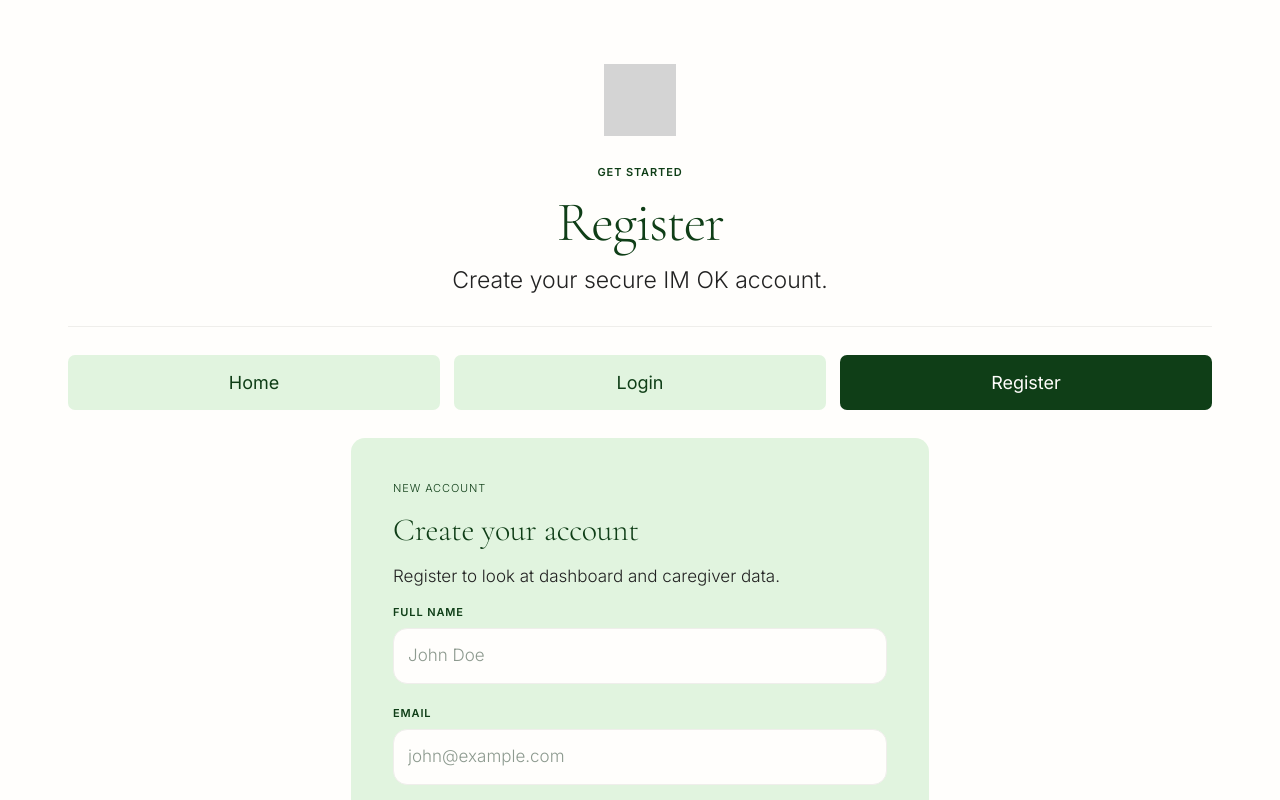
Test: Authentication flows › registers successfully and navigates to dashboard
Type "Jane Senior" into the field labelled "Full name".
click(640, 656); type("Jane Senior")  # box [393,628,887,684]
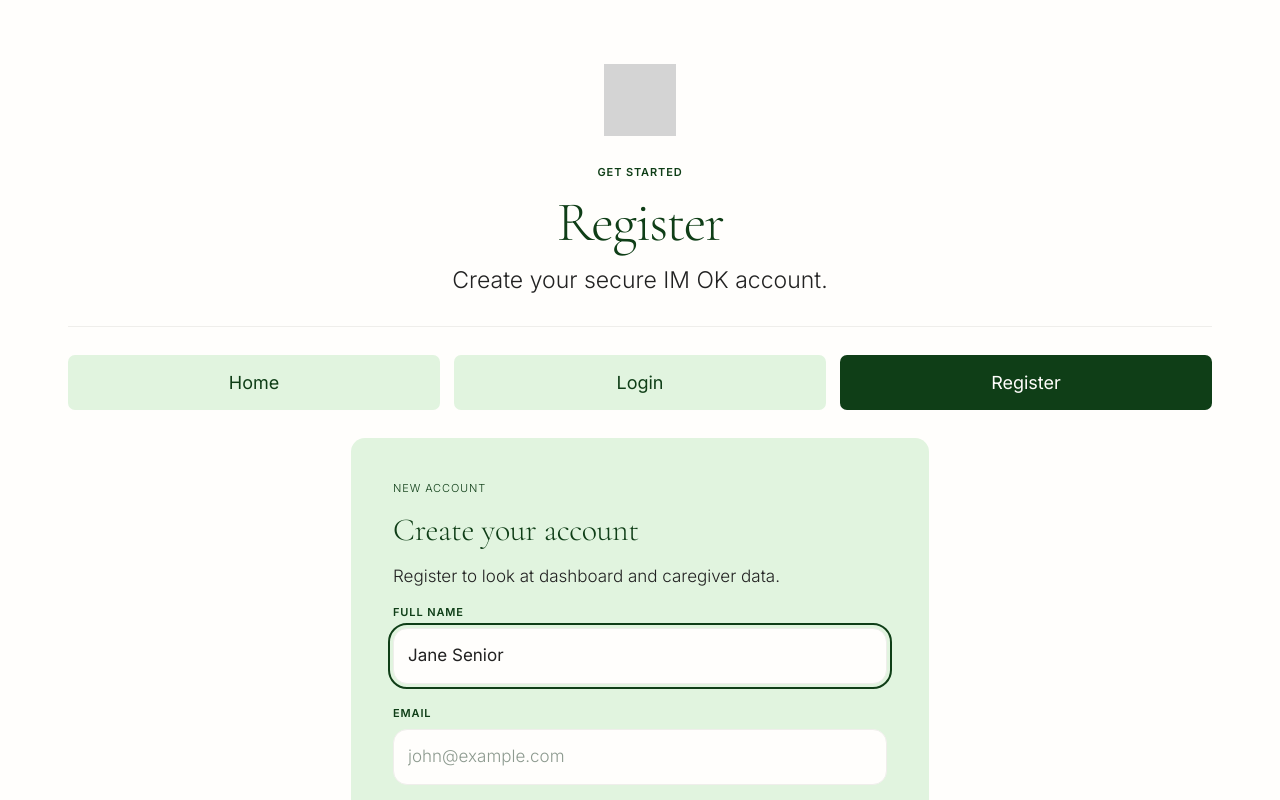
Type "jane@example.com" into the field labelled "Email".
click(640, 757); type("jane@example.com")  # box [393,729,887,785]
(page scrolled)
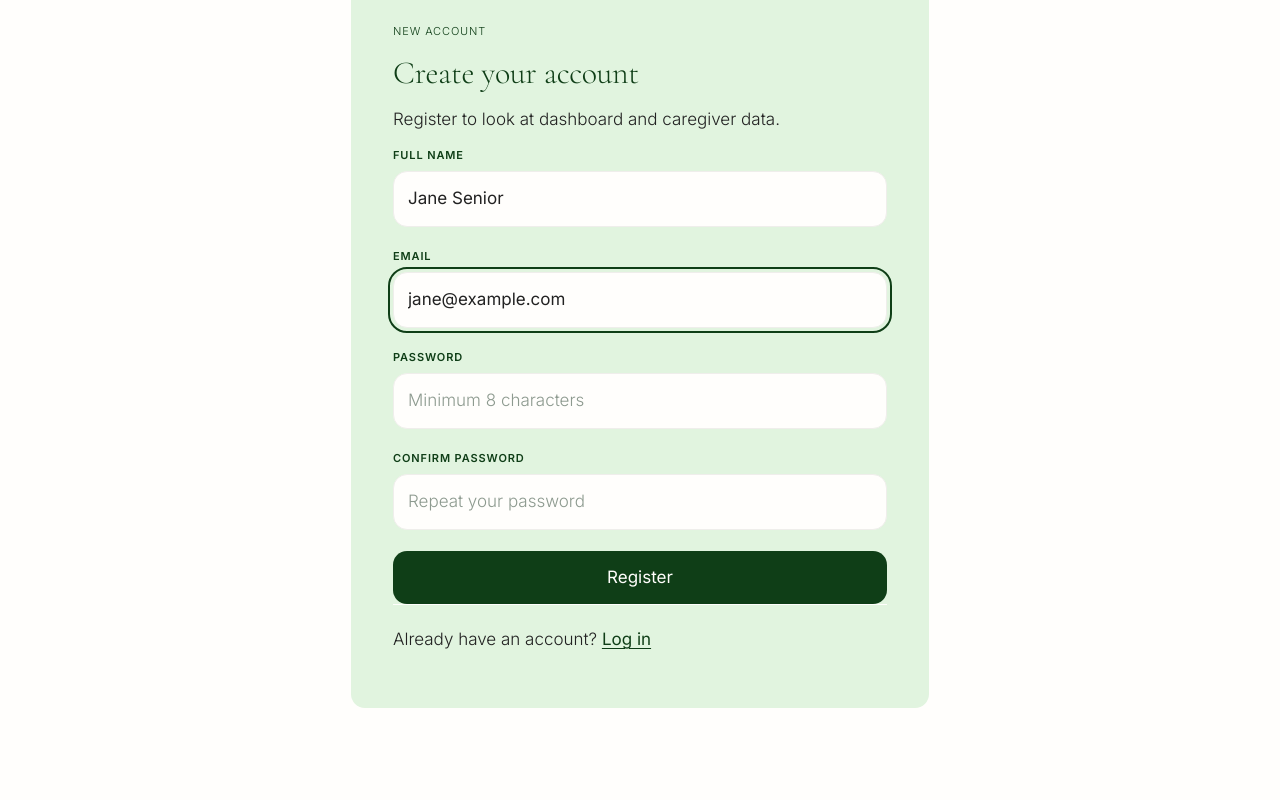
Type "Password123" into the password field labelled "Password".
click(640, 401); type("Password123")  # box [393,373,887,429]
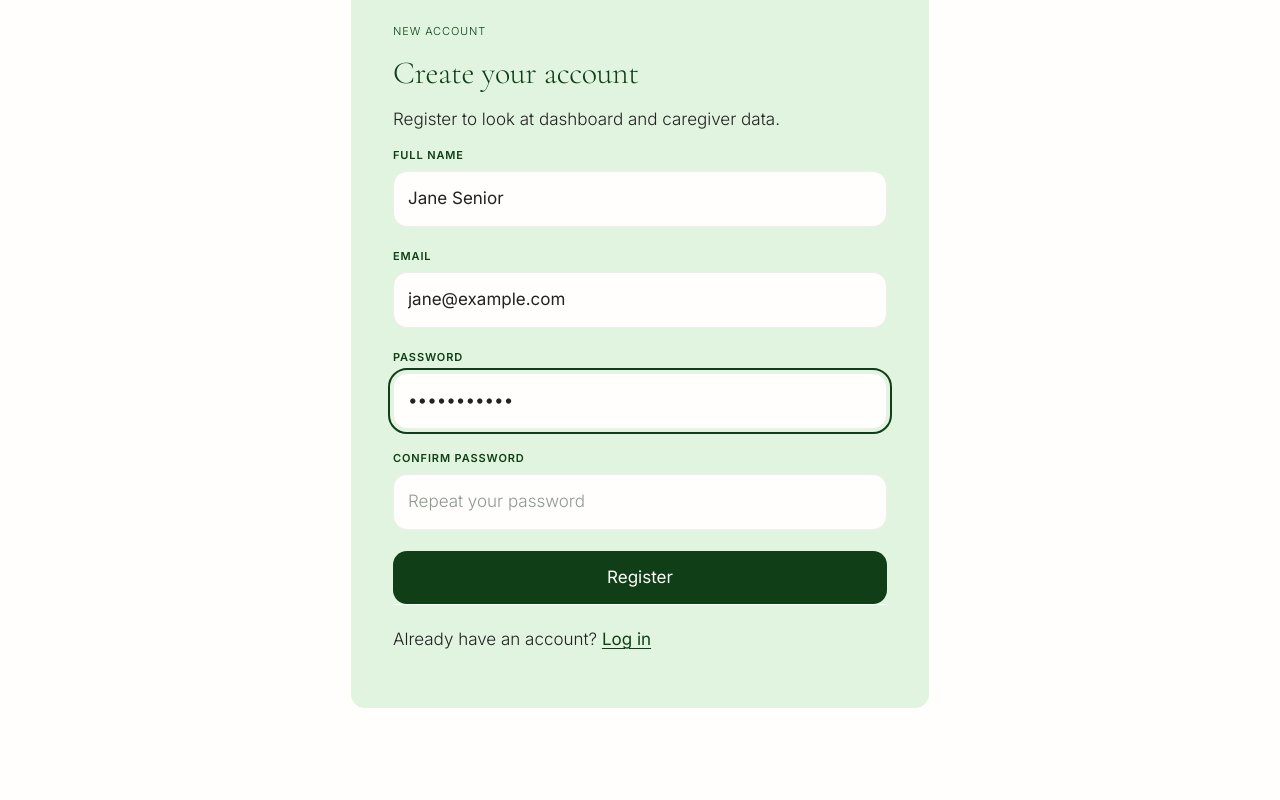
Type "Password123" into the password field labelled "Confirm password".
click(640, 502); type("Password123")  # box [393,474,887,530]
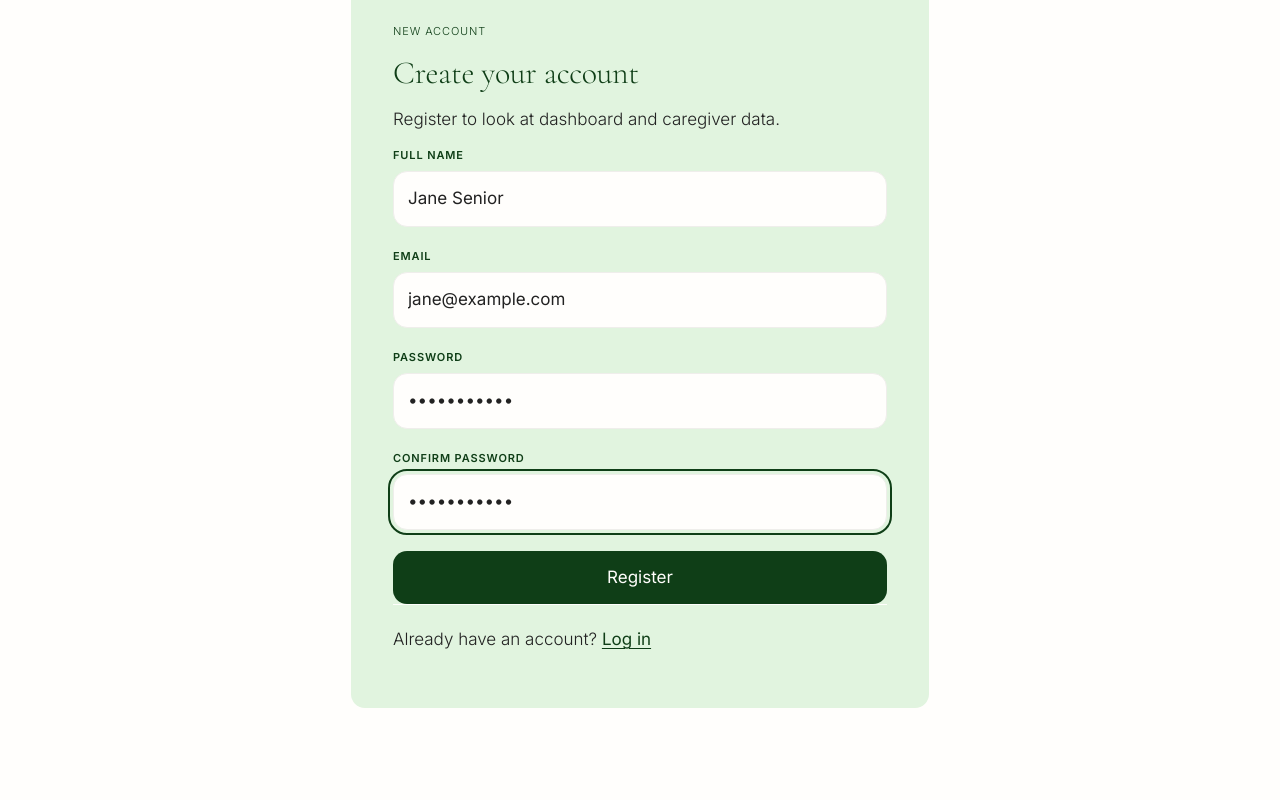
Click the button "Register".
click(640, 577)  # box [393,551,887,604]
(page scrolled)
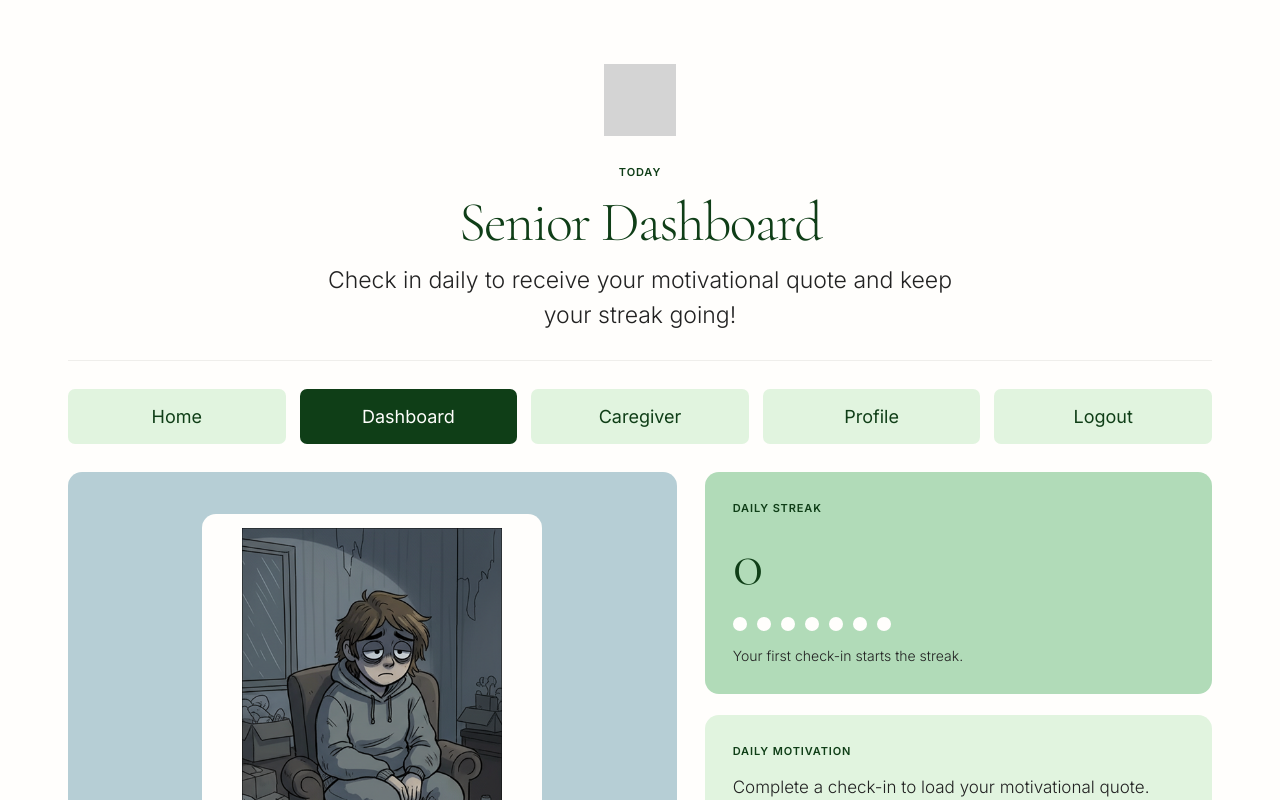
Expected: the heading "Senior Dashboard" is shown, [459,192,821,253]
